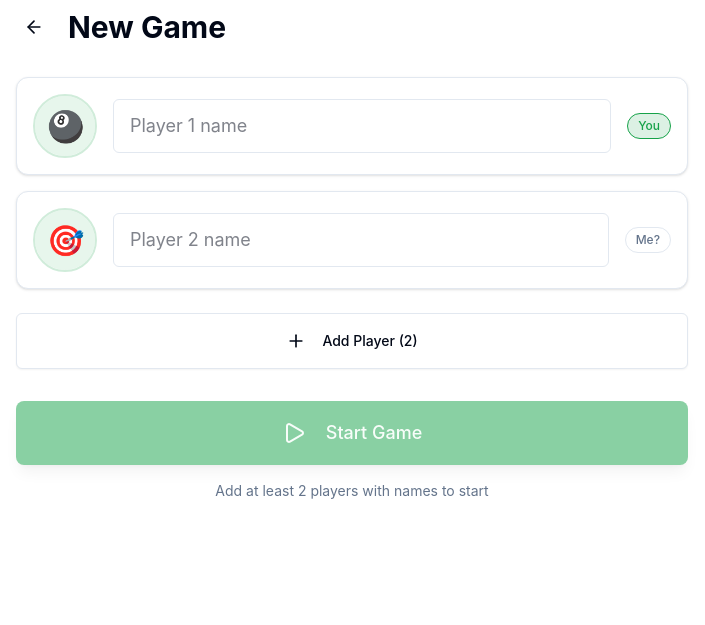
Test: NewGamePage › should clear the error once the form changes
Type "Anna" into the field with placeholder "Player 1 name" at (362,126), box [113, 99, 611, 153]
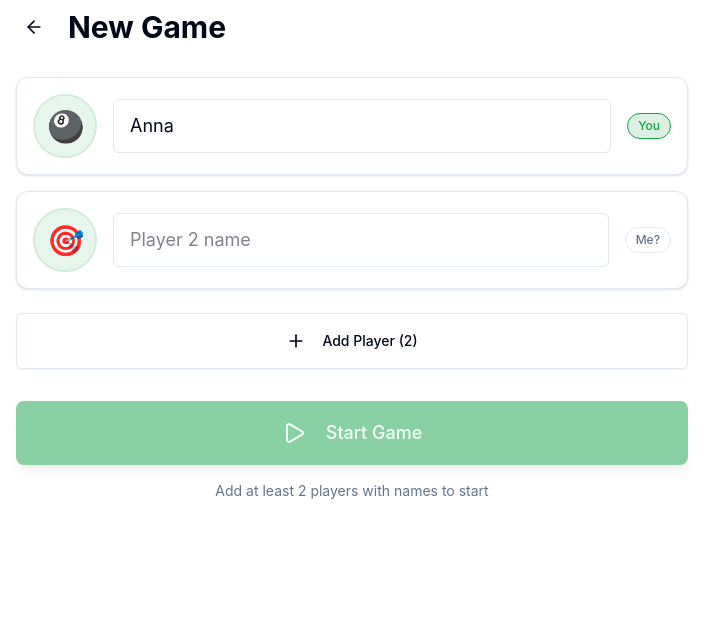
Type "Anna" into the field with placeholder "Player 2 name" at (361,240), box [113, 213, 609, 267]
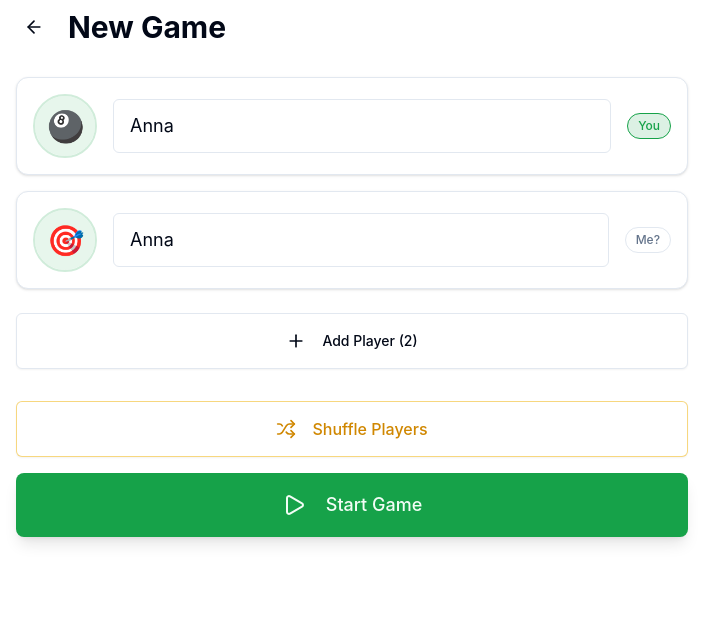
Click the button "Start Game" at (352,505), box [16, 473, 688, 537]
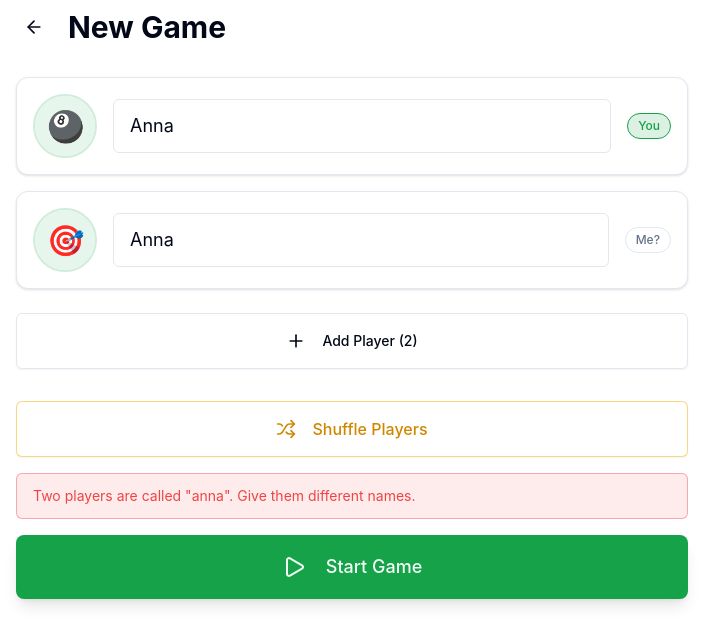
Result: the message "Two players are called \"anna\". Give them different names." is shown at [16, 473, 688, 519]
Replace the text in the field with placeholder "Player 2 name" with "Boris" at (361,240), box [113, 213, 609, 267]
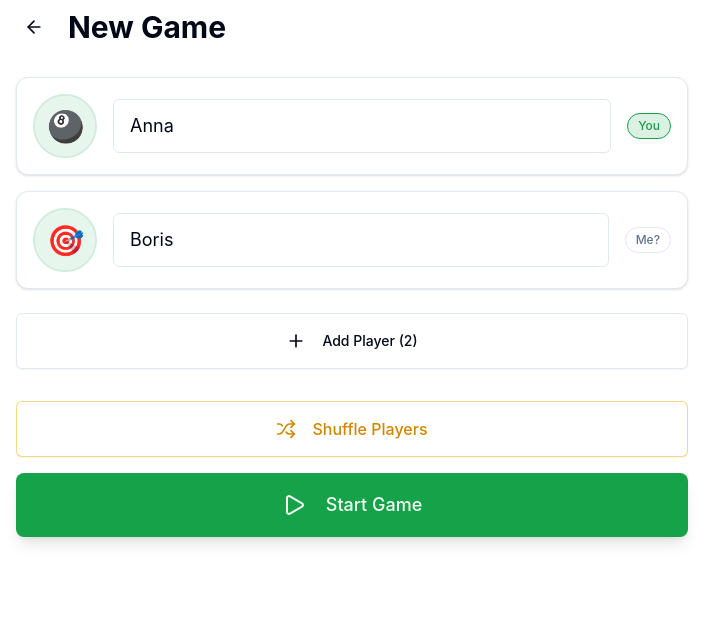
Result: the message "Two players are called \"anna\". Give them different names." is gone
